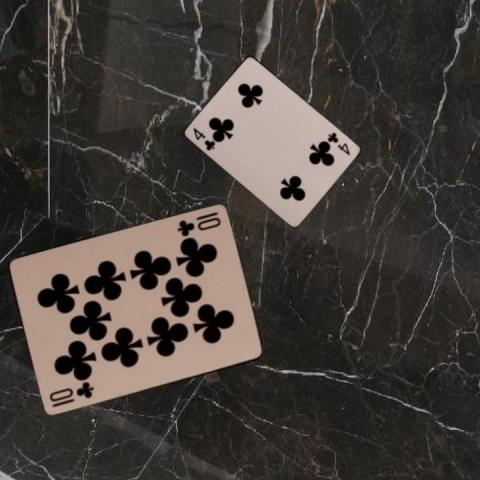10c: (46, 380, 95, 410), (174, 208, 222, 238)
4c: (325, 129, 352, 157), (190, 125, 217, 152)
